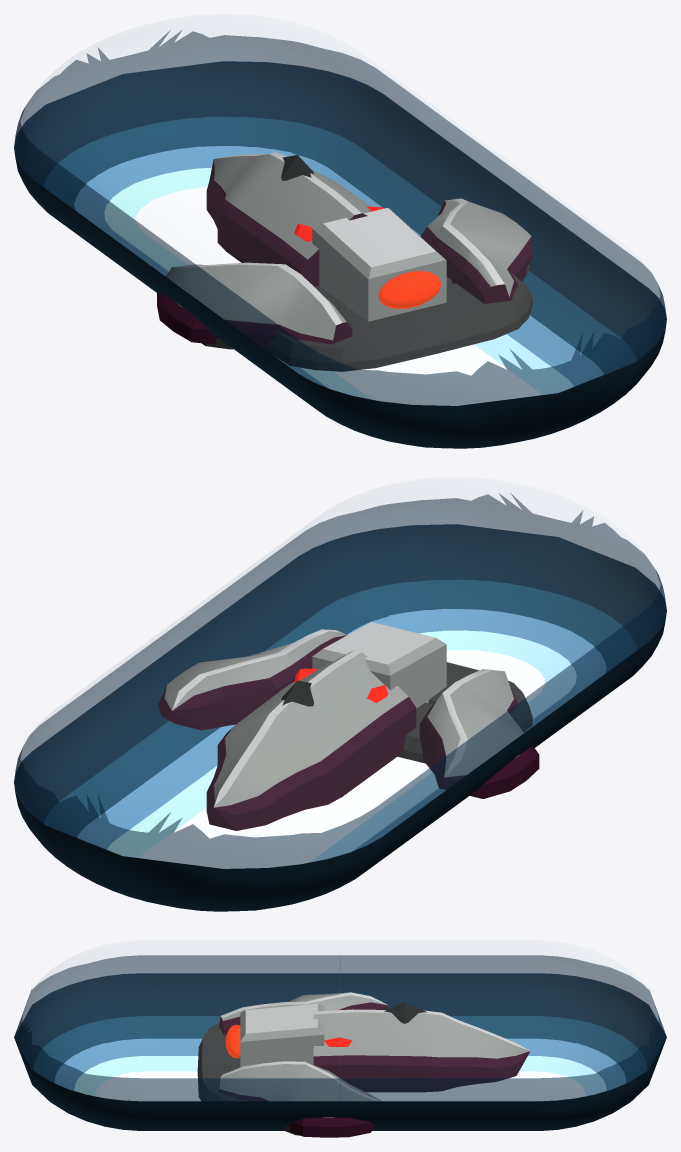
File: pu_soul_of_zinglon.glb
3 views of the same model, one above another, from view 1: azimuth 30°, elevation 25°; view 2: azimuth 150°, elevation 25°; view 3: azimuth 270°, elevation 25° (orthographic). The views are drawn at different scales.
Parts seen in each view (by area): view 1: cradle, lid, cradle_out, spire, blade_left, base_rear, block, blade_right, exhaust; view 2: cradle, lid, spire, cradle_out, blade_left, blade_right, block, base_rear, base_front; view 3: cradle, lid, cradle_out, spire, blade_right, block, base_rear, blade_left, canopy, exhaust.
Part boxes in pixels (left/top/right/bottom): cradle: left=14, top=61, right=666, bottom=405; lid: left=14, top=15, right=666, bottom=405; cradle_out: left=14, top=150, right=666, bottom=448; spire: left=206, top=152, right=370, bottom=286; blade_left: left=157, top=262, right=352, bottom=349; base_rear: left=265, top=273, right=532, bottom=371; block: left=312, top=207, right=446, bottom=321; blade_right: left=420, top=198, right=533, bottom=303; exhaust: left=378, top=271, right=441, bottom=308; cradle: left=14, top=524, right=666, bottom=868; lid: left=14, top=478, right=666, bottom=868; spire: left=206, top=650, right=416, bottom=830; cradle_out: left=14, top=613, right=666, bottom=911; blade_left: left=419, top=669, right=539, bottom=798; blade_right: left=158, top=629, right=346, bottom=730; block: left=312, top=622, right=446, bottom=708; base_rear: left=428, top=662, right=532, bottom=732; base_front: left=398, top=702, right=433, bottom=763; cradle: left=14, top=973, right=666, bottom=1101; lid: left=14, top=940, right=666, bottom=1101; cradle_out: left=14, top=1038, right=666, bottom=1130; spire: left=313, top=1009, right=530, bottom=1092; blade_right: left=219, top=1061, right=381, bottom=1137; block: left=240, top=1003, right=324, bottom=1067; base_rear: left=197, top=1022, right=248, bottom=1101; blade_left: left=219, top=992, right=388, bottom=1035; canopy: left=384, top=1002, right=426, bottom=1023; exhaust: left=225, top=1024, right=240, bottom=1058.
Size of the model in its own units: 13.1 by 6.7 by 28.
